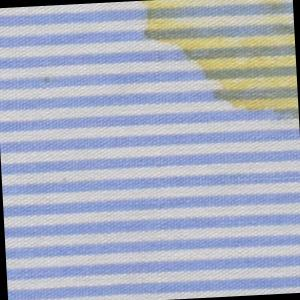Oil Stain: (138, 1, 299, 126)
